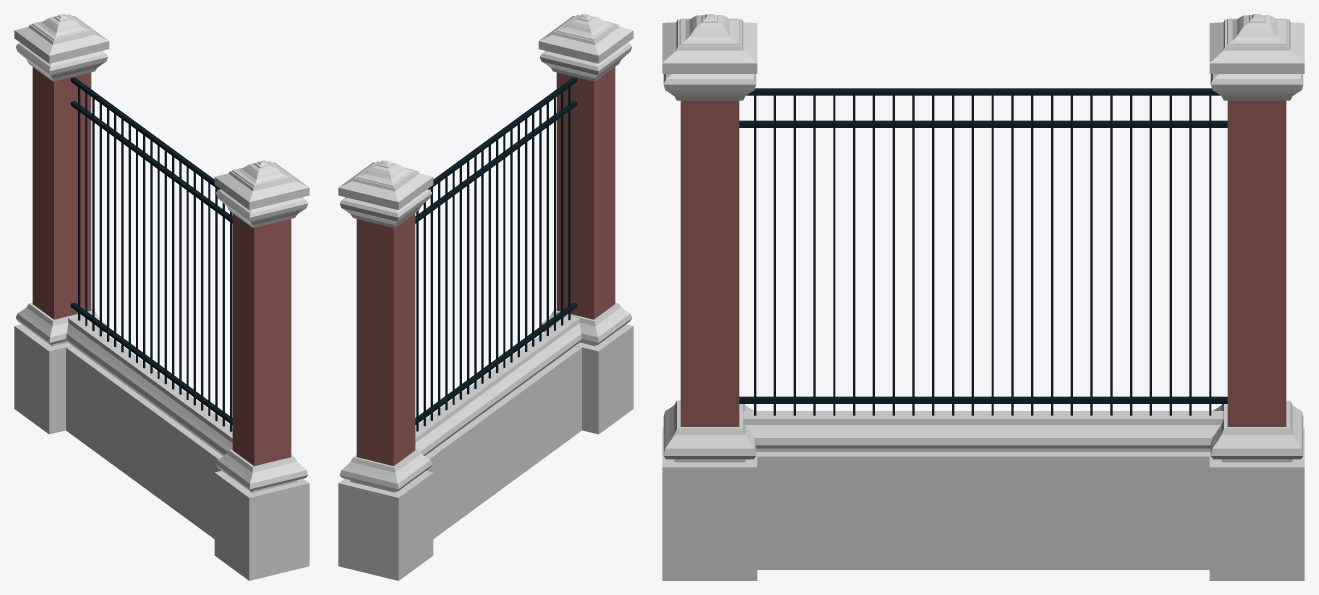
File: Fence_wall_1.fbx
3 renders of one model, left to right at view 1: azimuth 30°, elevation 25°; view 2: azimuth 150°, elevation 25°; view 3: azimuth 270°, elevation 25°, orthographic. The views are drawn at different scales.
Parts seen in each view (by area): view 1: Cube.020, Cube.021, Cube.026, Cube.018, Cube.028, Cube.019, Cube.027, Cube.017, Cube.023, Cube.024, Cube.022; view 2: Cube.020, Cube.021, Cube.018, Cube.026, Cube.019, Cube.028, Cube.017, Cube.027, Cube.023, Cube.024, Cube.022; view 3: Cube.020, Cube.021, Cube.018, Cube.026, Cube.019, Cube.028, Cube.017, Cube.027, Cube.023, Cube.024, Cube.022.
Boxes of the visible parts, x1,y1,x2,y2 form: Cube.020: (66, 315, 232, 538); Cube.021: (78, 87, 232, 431); Cube.026: (232, 213, 291, 465); Cube.018: (32, 67, 91, 319); Cube.028: (214, 449, 309, 580); Cube.019: (14, 303, 106, 434); Cube.027: (214, 160, 309, 227); Cube.017: (14, 14, 109, 81); Cube.023: (70, 302, 232, 425); Cube.024: (70, 101, 232, 223); Cube.022: (70, 77, 220, 189); Cube.020: (415, 315, 581, 538); Cube.021: (416, 87, 570, 431); Cube.018: (356, 213, 415, 465); Cube.026: (556, 67, 615, 319); Cube.019: (338, 449, 433, 580); Cube.028: (541, 303, 633, 434); Cube.017: (338, 160, 433, 227); Cube.027: (538, 14, 633, 81); Cube.023: (415, 302, 577, 425); Cube.024: (415, 101, 577, 223); Cube.022: (427, 77, 577, 189); Cube.020: (743, 411, 1223, 569); Cube.021: (754, 95, 1211, 415); Cube.018: (1227, 100, 1286, 426); Cube.026: (680, 100, 739, 426); Cube.019: (1209, 400, 1304, 580); Cube.028: (662, 400, 757, 580); Cube.017: (1209, 14, 1304, 100); Cube.027: (662, 14, 757, 100); Cube.023: (739, 396, 1227, 403); Cube.024: (739, 120, 1227, 127); Cube.022: (747, 88, 1219, 95).
Bounding box in the file's own units: 50.64 × 321 × 342.
